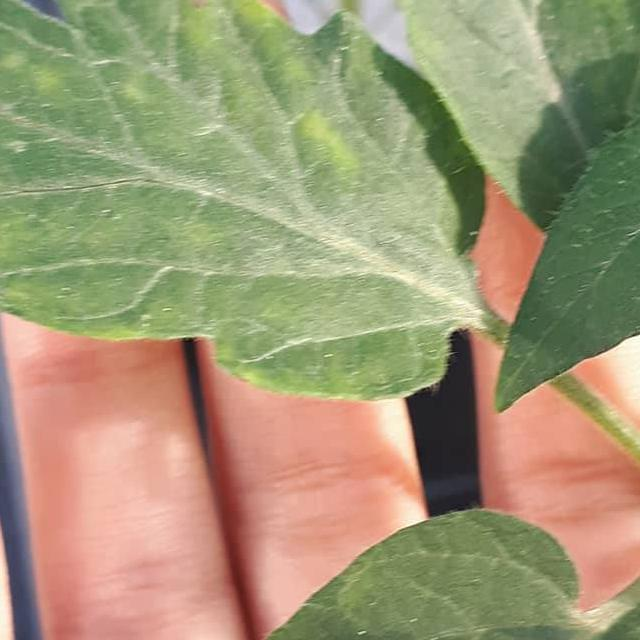Tomato mold leaf: (0, 0, 508, 374), (0, 486, 640, 640), (486, 0, 640, 452)
